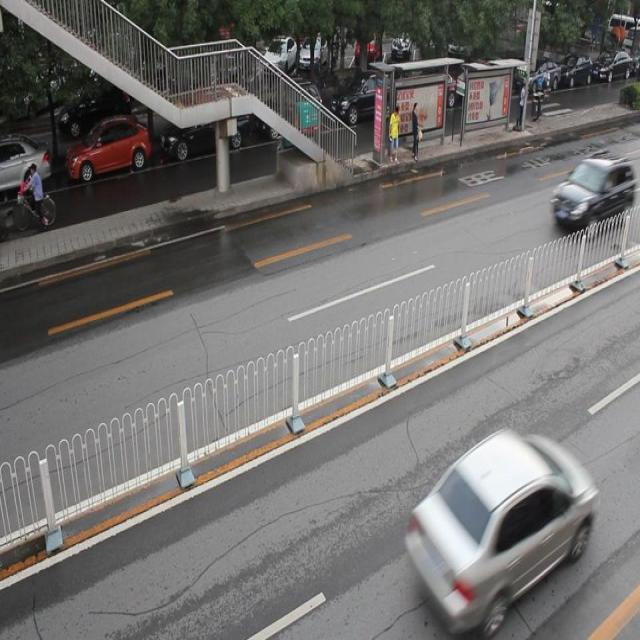car: (400, 432, 597, 628), (547, 156, 631, 233), (66, 116, 151, 181), (158, 105, 249, 160), (260, 78, 320, 139), (337, 68, 397, 123), (1, 137, 52, 195)
